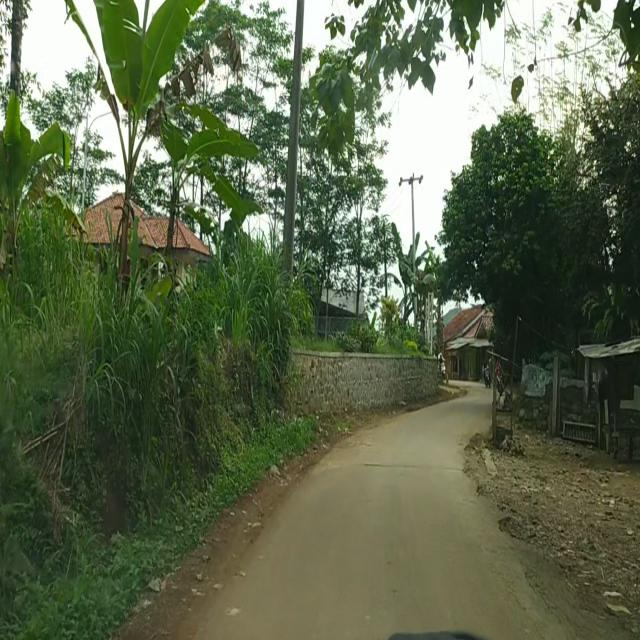Sewer Cover: (338, 457, 472, 470)
